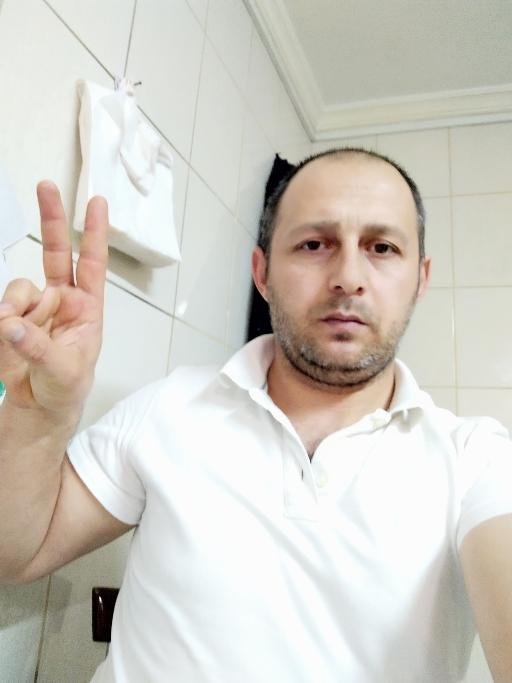peace: (0, 178, 109, 414)
